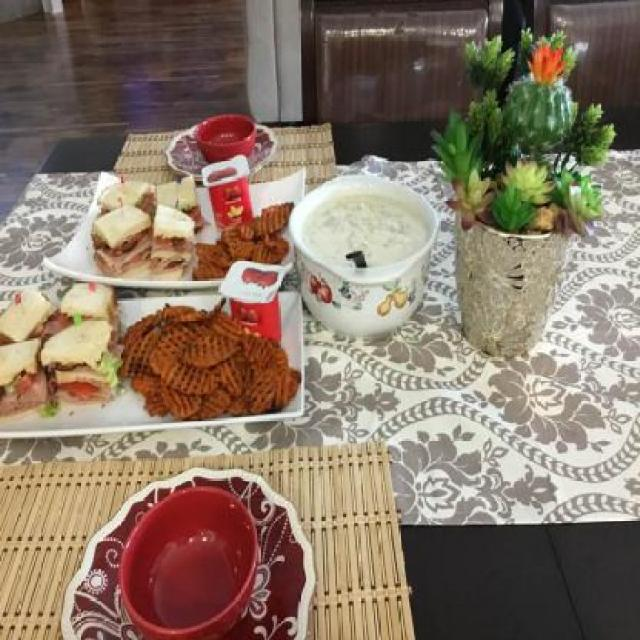clam chowder: (298, 169, 431, 325)
club sandwich: (78, 170, 199, 279)
